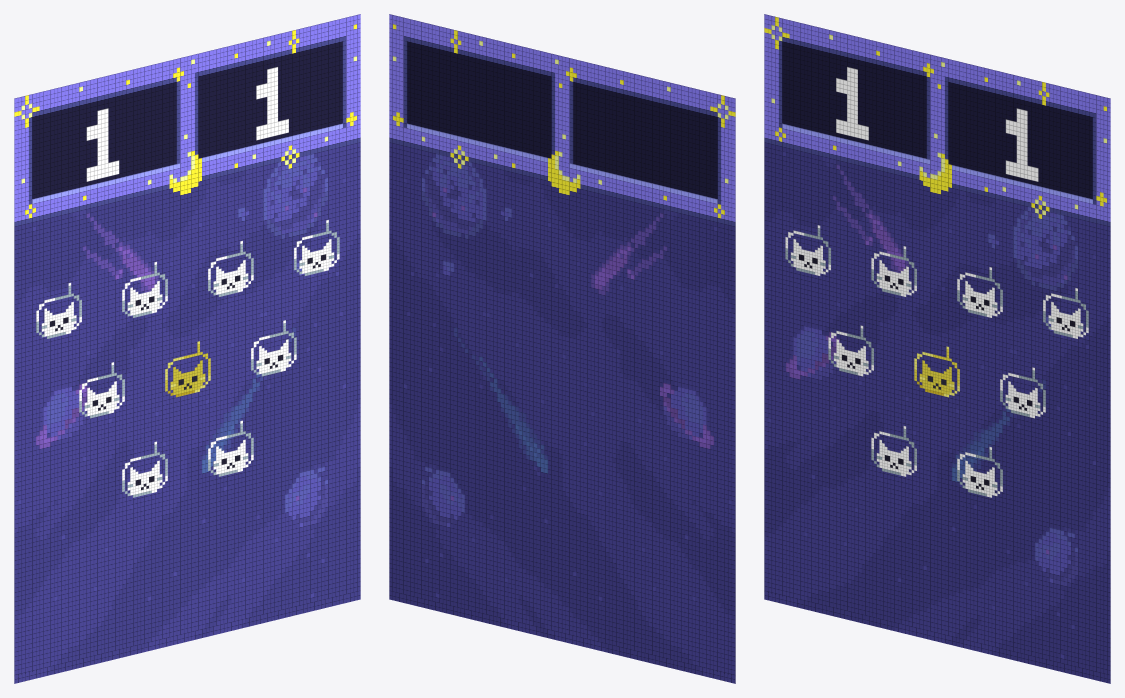
3 renders of one model, left to right at view 1: azimuth 30°, elevation 25°; view 2: azimuth 150°, elevation 25°; view 3: azimuth 330°, elevation 25°, orthographic.
Parts seen in each view (by area): view 1: background.001; view 2: background.001; view 3: background.001.
Part boxes in pixels (bbox=[...]): background.001: bbox=[14, 14, 360, 683]; background.001: bbox=[389, 14, 735, 683]; background.001: bbox=[764, 14, 1110, 683].
Size of the model in its own units: 1.54 by 2.48 by 0.00339.
Materials: 4 (4 with a texture image).
